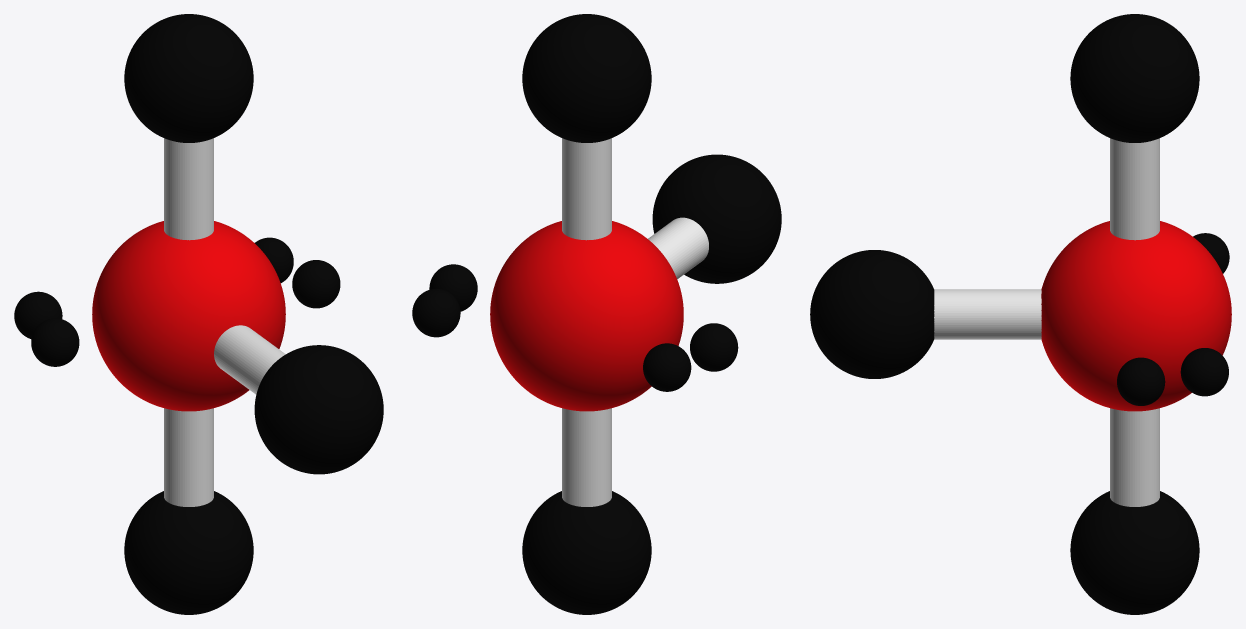
File: tstructure.glb
3 renders of one model, left to right at view 1: azimuth 30°, elevation 25°; view 2: azimuth 150°, elevation 25°; view 3: azimuth 270°, elevation 25°, orthographic.
Visible parts, largest first — view 1: Sphere, Sphere.002, Sphere.004, Sphere.003, Sphere.005, Sphere.006; view 2: Sphere, Sphere.002, Sphere.004, Sphere.003, Sphere.005, Sphere.006; view 3: Sphere, Sphere.003, Sphere.002, Sphere.004, Sphere.006, Sphere.005.
Boxes of the visible parts, left/top/right/bottom form: Sphere: left=92, top=221, right=285, bottom=411; Sphere.002: left=124, top=14, right=253, bottom=240; Sphere.004: left=124, top=408, right=253, bottom=614; Sphere.003: left=214, top=325, right=383, bottom=474; Sphere.005: left=14, top=291, right=79, bottom=366; Sphere.006: left=255, top=237, right=340, bottom=308; Sphere: left=490, top=221, right=683, bottom=411; Sphere.002: left=522, top=14, right=651, bottom=240; Sphere.004: left=522, top=408, right=651, bottom=614; Sphere.003: left=648, top=154, right=781, bottom=283; Sphere.005: left=643, top=323, right=738, bottom=391; Sphere.006: left=412, top=264, right=477, bottom=337; Sphere: left=1041, top=221, right=1231, bottom=411; Sphere.003: left=810, top=250, right=1041, bottom=378; Sphere.002: left=1070, top=14, right=1199, bottom=240; Sphere.004: left=1070, top=408, right=1199, bottom=614; Sphere.006: left=1117, top=348, right=1228, bottom=405; Sphere.005: left=1193, top=233, right=1229, bottom=273.
Bounding box in the file's own units: 5.37 × 9.98 × 6.48.
